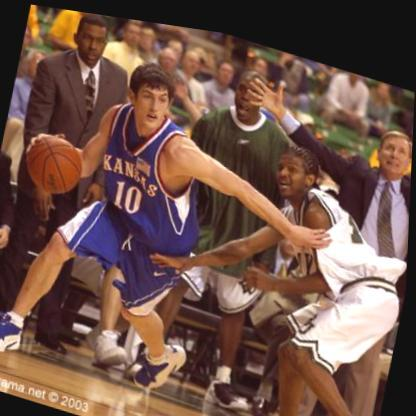basketball: (22, 125, 87, 199)
